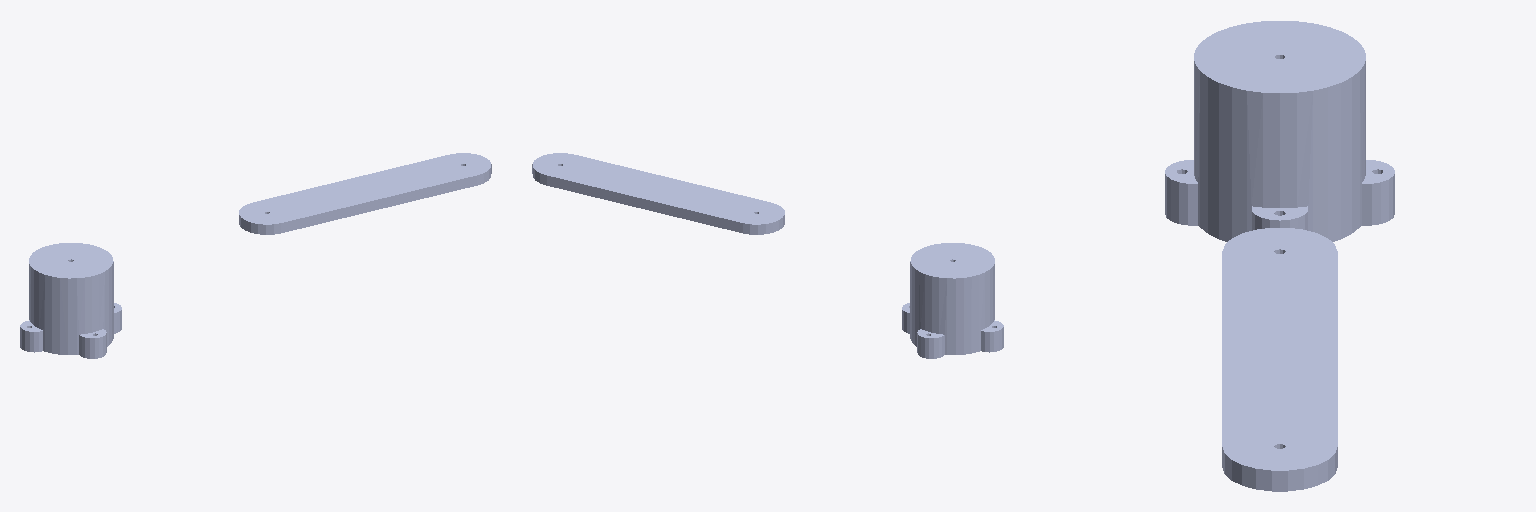
URDF robot description (assembly.SLDASM):
<?xml version="1.0" encoding="utf-8"?>
<!-- This URDF was automatically created by SolidWorks to URDF Exporter! Originally created by [author] ([email redacted]) 
     Commit Version: 1.6.0-4-g7f85cfe  Build Version: 1.6.7995.38578
     For more information, please see http://wiki.ros.org/sw_urdf_exporter -->
<robot
  name="assembly.SLDASM">
  <link
    name="base_link">
    <inertial>
      <origin
        xyz="-2.65978635290736E-18 2.32218677747017E-19 0.0359682827961964"
        rpy="0 0 0" />
      <mass
        value="0.349324168195258" />
      <inertia
        ixx="0.000303722827831119"
        ixy="-6.40012014226057E-21"
        ixz="-3.09225646669431E-20"
        iyy="0.000303722827831119"
        iyz="9.83403121094466E-21"
        izz="0.000269108517521699" />
    </inertial>
    <visual>
      <origin
        xyz="0 0 0"
        rpy="0 0 0" />
      <geometry>
        <mesh
          filename="../meshes/base_link.STL" />
      </geometry>
      <material
        name="">
        <color
          rgba="0.792156862745098 0.819607843137255 0.933333333333333 1" />
      </material>
    </visual>
    <collision>
      <origin
        xyz="0 0 0"
        rpy="0 0 0" />
      <geometry>
        <mesh
          filename="../meshes/base_link.STL" />
      </geometry>
    </collision>
  </link>
  <link
    name="link1">
    <inertial>
      <origin
        xyz="0.1 0.00499999999999999 8.0236264553021E-23"
        rpy="0 0 0" />
      <mass
        value="0.119242255003237" />
      <inertia
        ixx="2.48943667751497E-05"
        ixy="-2.10026327406034E-23"
        ixz="7.05860789378577E-22"
        iyy="0.00059439057933262"
        iyz="-8.82325986723232E-23"
        izz="0.000571483583474191" />
    </inertial>
    <visual>
      <origin
        xyz="0 0 0"
        rpy="0 0 0" />
      <geometry>
        <mesh
          filename="../meshes/link1.STL" />
      </geometry>
      <material
        name="">
        <color
          rgba="0.694117647058824 0.0980392156862745 0.0980392156862745 1" />
      </material>
    </visual>
    <collision>
      <origin
        xyz="0 0 0"
        rpy="0 0 0" />
      <geometry>
        <mesh
          filename="../meshes/link1.STL" />
      </geometry>
    </collision>
  </link>
  <joint
    name="joint1"
    type="revolute">
    <origin
      xyz="0 0 0.075"
      rpy="1.5708 0 0" />
    <parent
      link="base_link" />
    <child
      link="link1" />
    <axis
      xyz="0 1 0" />
    <limit
      lower="-1.5708"
      upper="1.5708"
      effort="0"
      velocity="0" />
  </joint>
  <link
    name="link2">
    <inertial>
      <origin
        xyz="0.1 -0.00499999999999998 -8.00757920239161E-20"
        rpy="0 0 0" />
      <mass
        value="0.119242255003237" />
      <inertia
        ixx="2.48943667751497E-05"
        ixy="-1.84112309778402E-21"
        ixz="-2.11758236813574E-21"
        iyy="0.00059439057933262"
        iyz="2.2940475654804E-22"
        izz="0.000571483583474191" />
    </inertial>
    <visual>
      <origin
        xyz="0 0 0"
        rpy="0 0 0" />
      <geometry>
        <mesh
          filename="../meshes/link2.STL" />
      </geometry>
      <material
        name="">
        <color
          rgba="0.792156862745098 0.819607843137255 0.933333333333333 1" />
      </material>
    </visual>
    <collision>
      <origin
        xyz="0 0 0"
        rpy="0 0 0" />
      <geometry>
        <mesh
          filename="../meshes/link2.STL" />
      </geometry>
    </collision>
  </link>
  <joint
    name="joint2"
    type="revolute">
    <origin
      xyz="0.2 0 0"
      rpy="0 0 0" />
    <parent
      link="link1" />
    <child
      link="link2" />
    <axis
      xyz="0 1 0" />
    <limit
      lower="-1.5708"
      upper="1.5708"
      effort="0"
      velocity="0" />
  </joint>
</robot>

--- Facts derived from the render (not from the file) ---
The picture shows the robot from 3 angles, left to right: view 1: azimuth 30°, elevation 25°; view 2: azimuth 150°, elevation 25°; view 3: azimuth 270°, elevation 25°; orthographic projection.
Robot: assembly.SLDASM — 3 links, 2 joints (2 revolute); root link base_link; default pose: every joint at zero.
Links seen in each view (by area): view 1: base_link, link2; view 2: base_link, link2; view 3: base_link, link2.
Boxes of the visible links, box(x1,y1,x2,y2) form: base_link: box(20, 243, 121, 358); link2: box(239, 153, 491, 234); base_link: box(902, 243, 1003, 358); link2: box(532, 153, 784, 234); base_link: box(1165, 21, 1394, 241); link2: box(1222, 228, 1337, 491).
Size in the robot's own frame: 0.4747 by 0.1 by 0.075 metres.
2 mesh visuals loaded from 3 distinct referenced files (2 binary STL); not drawn: 1 (reference not matched to a file when rendering).